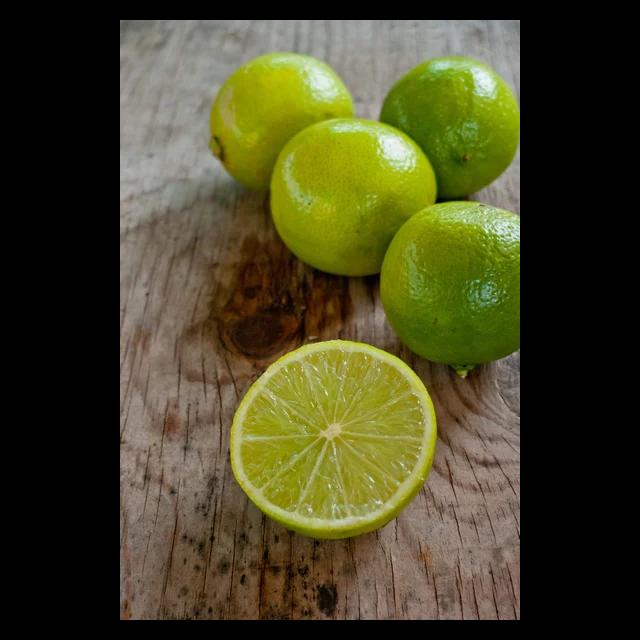lime: (260, 104, 447, 282), (202, 42, 366, 208), (372, 191, 520, 372), (367, 51, 520, 206)
